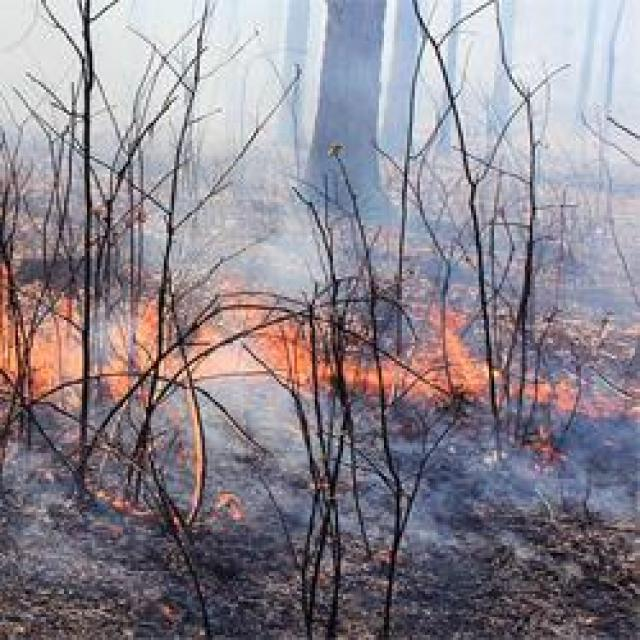fire: (447, 338, 477, 389), (33, 334, 58, 388), (293, 343, 311, 381), (1, 306, 10, 372)
smoke: (580, 415, 640, 509), (250, 207, 312, 286), (233, 379, 298, 445), (28, 519, 86, 575), (195, 412, 245, 472), (338, 42, 390, 97), (523, 0, 576, 51), (513, 453, 551, 491), (99, 325, 140, 352)
